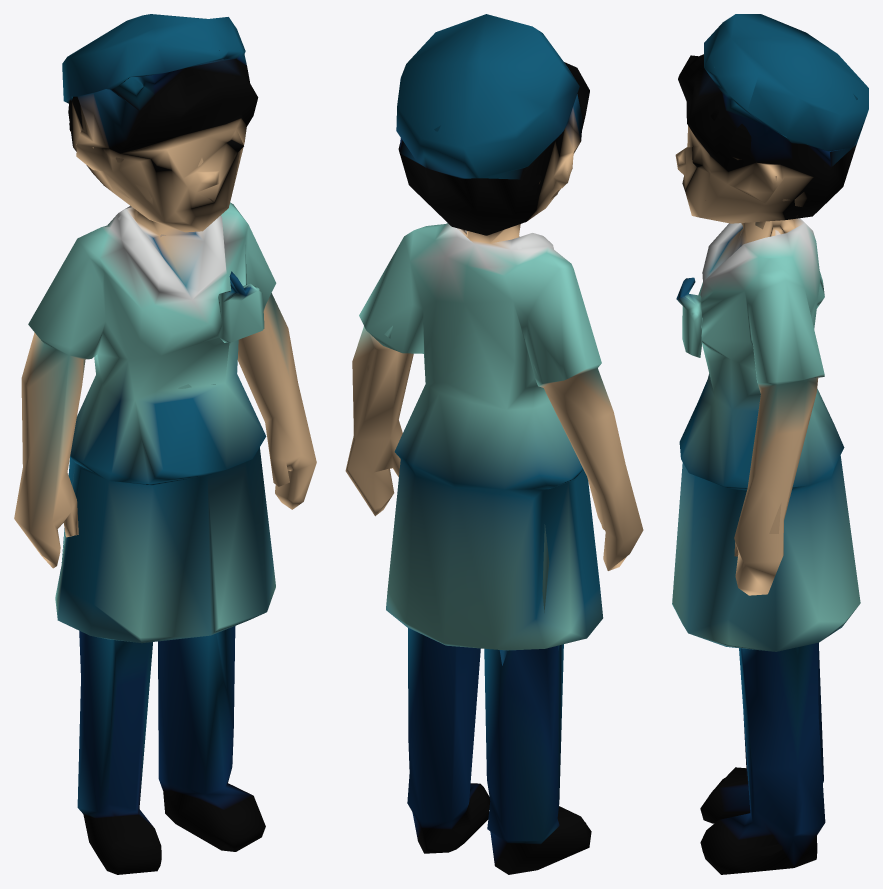
File: gen3d-nurse-lod1.glb
3 renders of one model, left to right at view 1: azimuth 30°, elevation 25°; view 2: azimuth 150°, elevation 25°; view 3: azimuth 270°, elevation 25°, orthographic.
Visible parts, largest first — view 1: part_0; view 2: part_0; view 3: part_0.
Boxes of the visible parts, bbox=[...] form: part_0: bbox=[14, 14, 316, 874]; part_0: bbox=[345, 14, 643, 874]; part_0: bbox=[672, 14, 868, 874].
Bounding box in the file's own units: 0.36 × 0.9992 × 0.2192.
